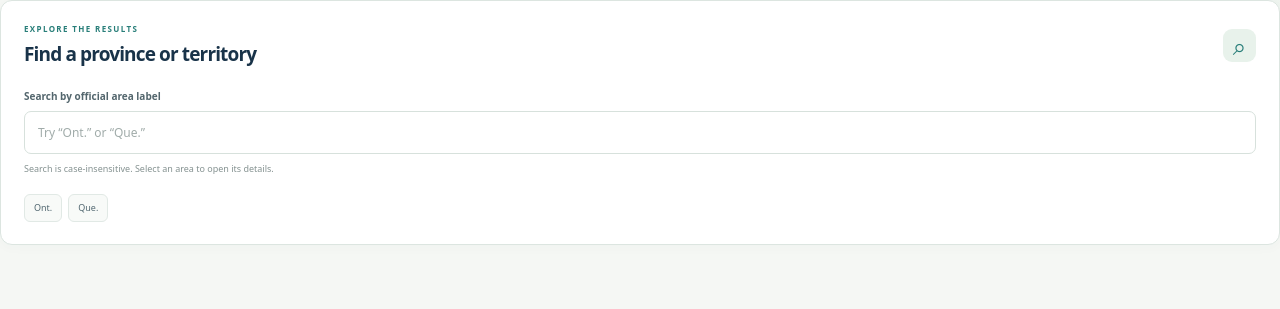
Test: AreaSearch › matches labels case-insensitively and opens the selected area
The width and height of the screenshot is (1280, 309).
Later steps or results of the test are not shown.
Type "ONT" into the search field labelled "Search by official area label" at (640, 132), box [24,111,1256,154]
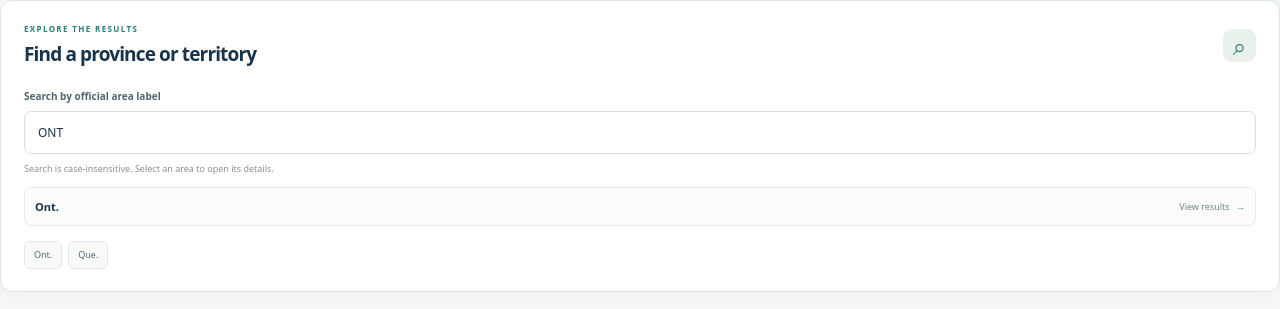
Expected: the button "Ont. View results →" is shown, [24,186,1256,226]
